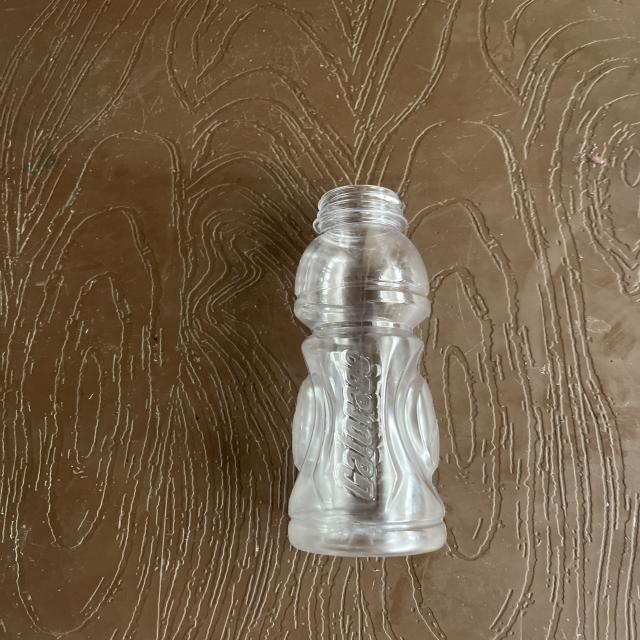PET_ClearBottle: (273, 181, 526, 560)
